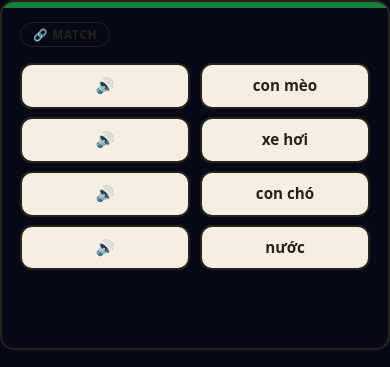
Test: MatchingPairsGame › falls back to text prompts when audio playback fails at runtime
Click the button named "play 1" at (105, 86), box [20,63,190,109]
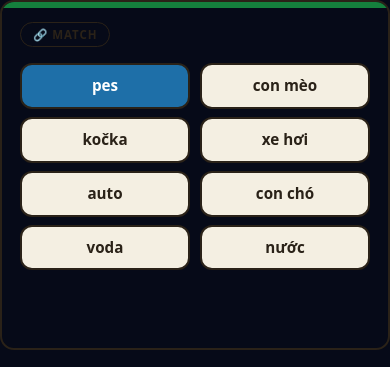
Expected: the button "pes" is shown, [20,63,190,109]
